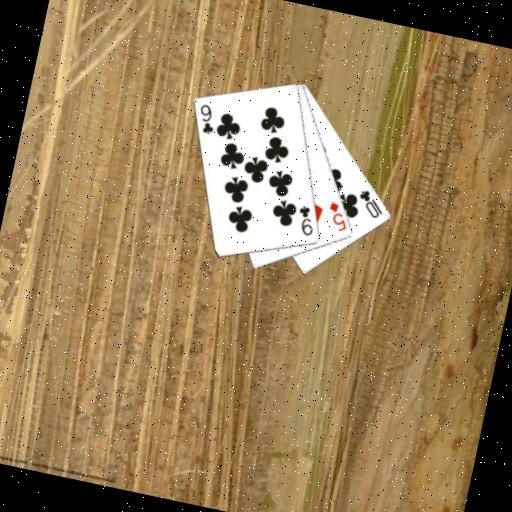10C: (352, 185, 388, 221)
5D: (322, 198, 353, 235)
9C: (291, 201, 319, 238), (192, 100, 220, 136)
